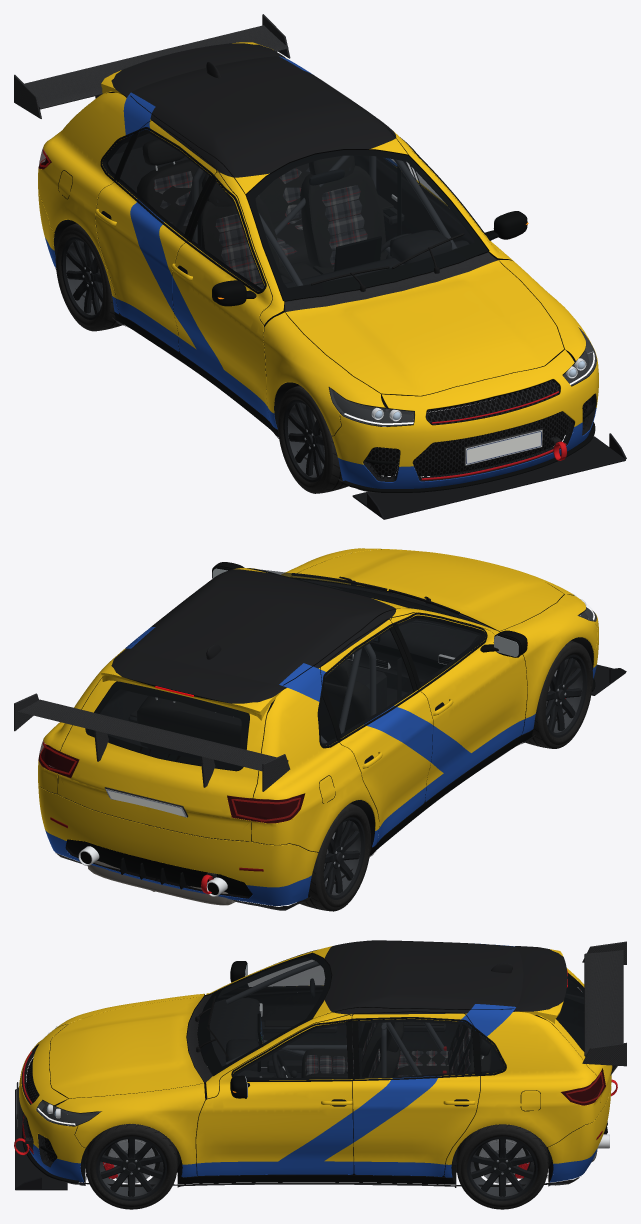
File: touring-race-car.glb
3 views of the same model, one above another, from view 1: azimuth 30°, elevation 25°; view 2: azimuth 150°, elevation 25°; view 3: azimuth 270°, elevation 25° (orthographic). The views are drawn at different scales.
Parts seen in each view (by area): view 1: Body, Wheel_FR, Wheel_RR; view 2: Body, Wheel_RR, Wheel_FR; view 3: Body, Wheel_FL, Wheel_RL.
Part boxes in pixels (x1,y1,x2,y2): Body: (14,14,626,519); Wheel_FR: (277,385,348,493); Wheel_RR: (55,223,122,331); Body: (14,548,626,910); Wheel_RR: (297,803,370,911); Wheel_FR: (525,640,592,748); Body: (14,940,626,1190); Wheel_FL: (85,1124,177,1209); Wheel_RL: (456,1124,548,1209).
Bounding box in the file's own units: 2.1 × 1.5 × 4.3.
Materials: 65 (12 with a texture image).
